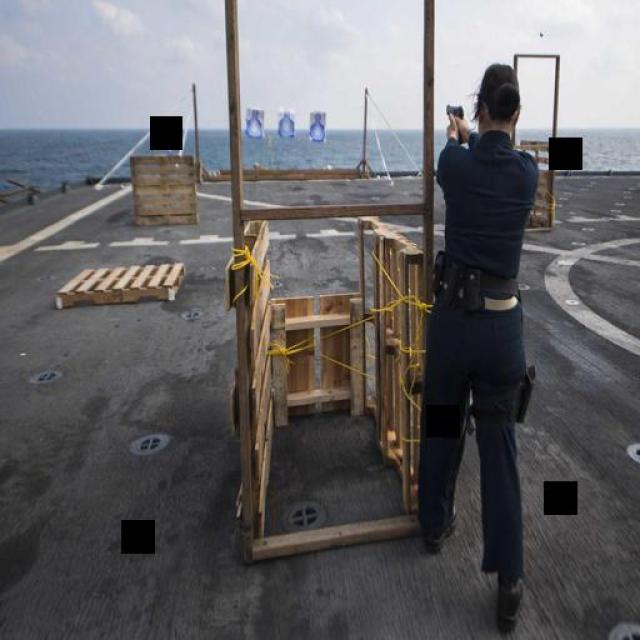gun: (434, 95, 466, 131)
